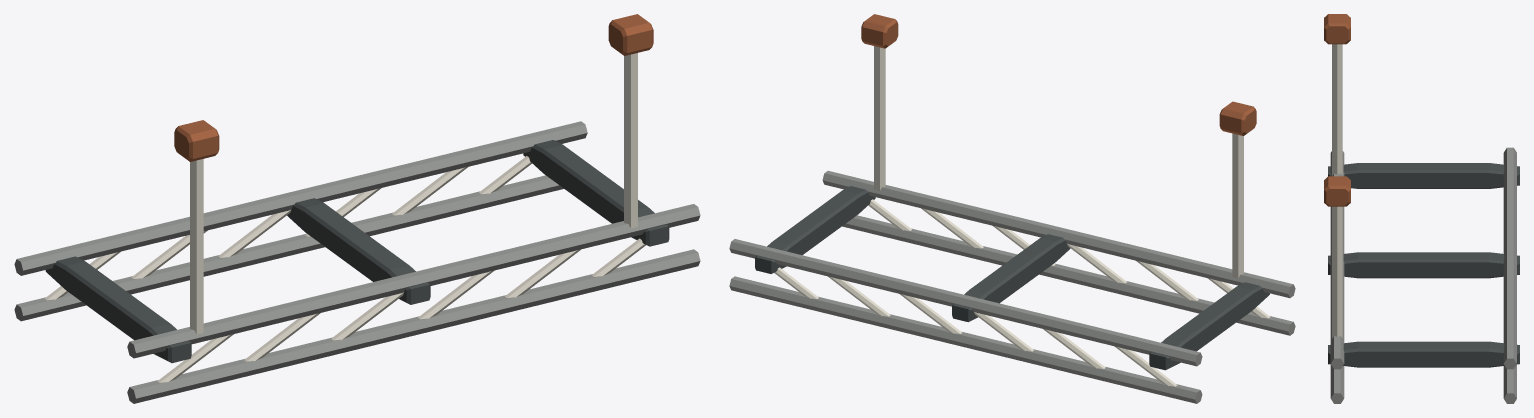
The model's file is cradle-v001.glb.
3 views of the same model, side by side, from view 1: azimuth 30°, elevation 25°; view 2: azimuth 150°, elevation 25°; view 3: azimuth 270°, elevation 25° (orthographic). The views are drawn at different scales.
Parts seen in each view (by area): view 1: cradle-handling-bed, cradle-service-uprights; view 2: cradle-handling-bed, cradle-service-uprights; view 3: cradle-handling-bed, cradle-service-uprights.
Boxes of the visible parts, x1,y1,x2,y2 form: cradle-handling-bed: (14, 121, 700, 403); cradle-service-uprights: (174, 14, 653, 334); cradle-handling-bed: (729, 170, 1295, 403); cradle-service-uprights: (861, 14, 1256, 278); cradle-handling-bed: (1328, 147, 1519, 403); cradle-service-uprights: (1324, 14, 1350, 338).
Size of the model in its own units: 26 by 11.4 by 10.2.
1 material, 1 textured.
